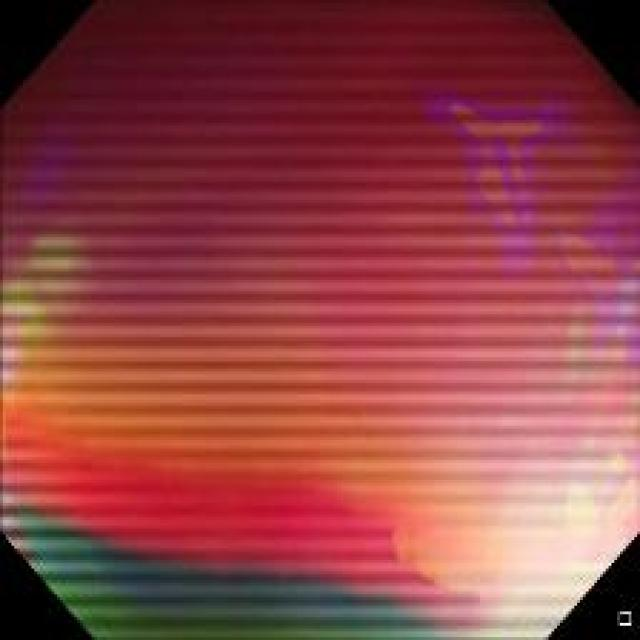color misalignment: (4, 9, 632, 632), (9, 444, 466, 619), (454, 71, 562, 276), (9, 224, 111, 384), (564, 215, 624, 370), (18, 90, 86, 215)
